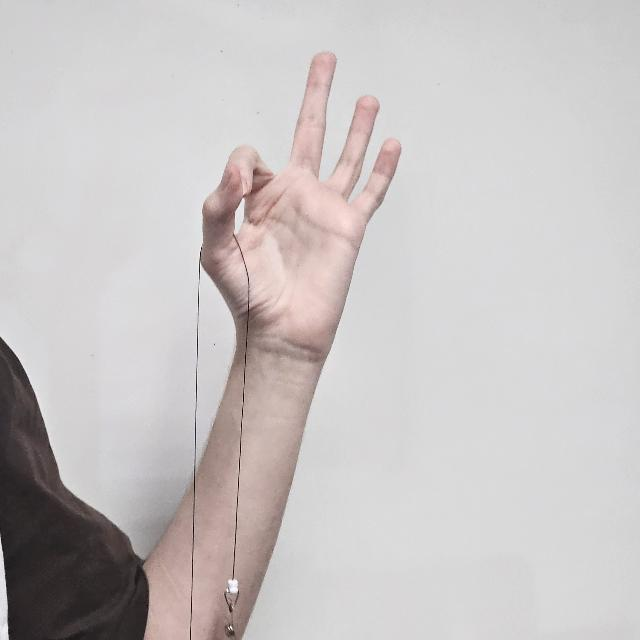Bolinha: (204, 53, 400, 381)
